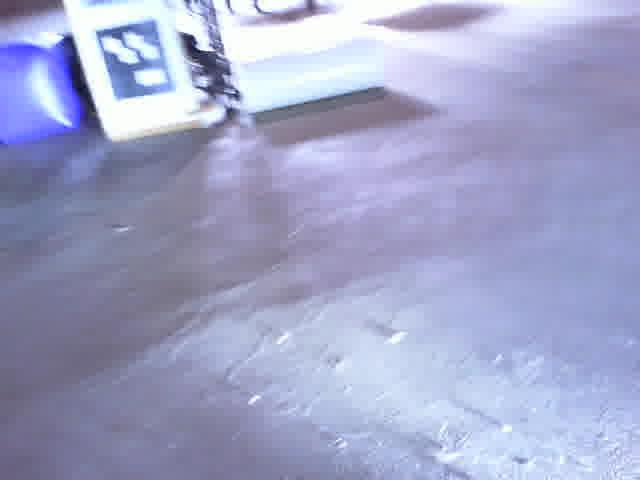coral: (234, 26, 389, 118)
